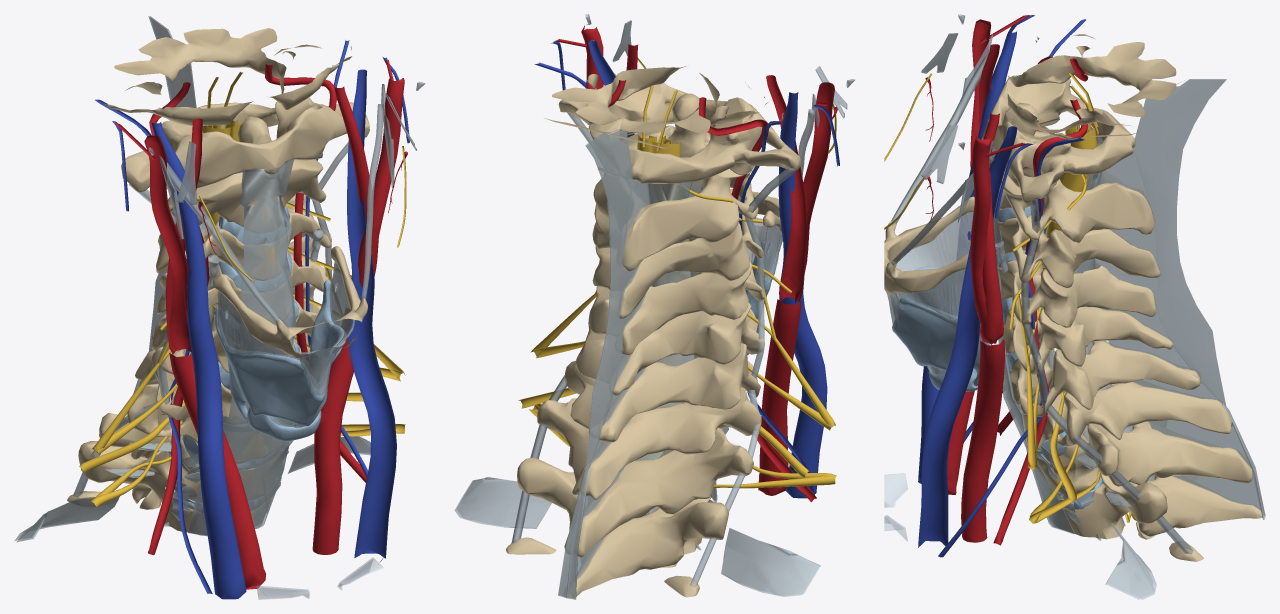
File: joint-neck.bf470dd0.glb
3 views of the same model, side by side, from view 1: azimuth 30°, elevation 25°; view 2: azimuth 150°, elevation 25°; view 3: azimuth 270°, elevation 25° (orthographic). The views are drawn at different scales.
Parts seen in each view (by area): view 1: Ligament_AnteriorLongitudinalLigament_Right, Vessel_InternalJugularVein_Right, Vessel_InternalJugularVein_Left, Bone_AtlasC1_Right, Bone_OccipitalBone_Right, Cartilage_ThyroidCartilage_Right, Vessel_CommonCarotidArtery_Left, Bone_AxisC2_Right, Vessel_CommonCarotidArtery_Right, Vessel_ExternalCarotidArtery_Right, object 78, Bone_HyoidBone_Right (+31 smaller); view 2: Bone_VertebraT1_Right, Bone_VertebraT2_Right, Bone_AtlasC1_Right, Bone_AxisC2_Right, Bone_VertebraC7_Right, Bone_VertebraC6_Right, Ligament_NuchalLigament_Right, Bone_VertebraC5_Right, Bone_VertebraC4_Right, Bone_VertebraC3_Right, Vessel_InternalJugularVein_Right, Bone_OccipitalBone_Right (+20 smaller); view 3: Ligament_NuchalLigament_Right, Bone_VertebraT1_Right, Bone_AtlasC1_Right, Vessel_InternalJugularVein_Left, Ligament_InterspinousLigaments_Right, Bone_VertebraT2_Right, Bone_VertebraC7_Right, Bone_AxisC2_Right, Bone_OccipitalBone_Right, Bone_VertebraC6_Right, Bone_VertebraC4_Right, Bone_VertebraC3_Right (+28 smaller).
Boxes of the visible parts, x1,y1,x2,y2 form: Ligament_AnteriorLongitudinalLigament_Right: (188, 157, 296, 535); Vessel_InternalJugularVein_Right: (151, 122, 246, 599); Vessel_InternalJugularVein_Left: (347, 69, 396, 562); Bone_AtlasC1_Right: (121, 97, 369, 192); Bone_OccipitalBone_Right: (103, 28, 351, 125); Cartilage_ThyroidCartilage_Right: (215, 280, 346, 426); Vessel_CommonCarotidArtery_Left: (312, 338, 353, 554); Bone_AxisC2_Right: (168, 116, 326, 226); Vessel_CommonCarotidArtery_Right: (169, 353, 265, 589); Vessel_ExternalCarotidArtery_Right: (144, 135, 189, 350); object 78: (79, 321, 185, 508); Bone_HyoidBone_Right: (212, 246, 367, 358); Bone_VertebraT1_Right: (537, 398, 753, 557); Bone_VertebraT2_Right: (517, 457, 728, 598); Bone_AtlasC1_Right: (558, 83, 800, 183); Bone_AxisC2_Right: (593, 93, 758, 271); Bone_VertebraC7_Right: (565, 354, 761, 499); Bone_VertebraC6_Right: (576, 322, 760, 442); Ligament_NuchalLigament_Right: (585, 129, 633, 475); Bone_VertebraC5_Right: (588, 286, 764, 395); Bone_VertebraC4_Right: (592, 246, 764, 355); Bone_VertebraC3_Right: (592, 204, 763, 318); Vessel_InternalJugularVein_Right: (778, 92, 827, 498); Bone_OccipitalBone_Right: (544, 66, 783, 148); Ligament_NuchalLigament_Right: (1133, 79, 1226, 407); Bone_VertebraT1_Right: (1037, 421, 1252, 498); Bone_AtlasC1_Right: (982, 75, 1135, 203); Vessel_InternalJugularVein_Left: (918, 126, 1017, 547); Ligament_InterspinousLigaments_Right: (1095, 143, 1265, 515); Bone_VertebraT2_Right: (1043, 473, 1264, 539); Bone_VertebraC7_Right: (1023, 382, 1232, 451); Bone_AxisC2_Right: (1000, 102, 1155, 243); Bone_OccipitalBone_Right: (1007, 34, 1184, 139); Bone_VertebraC6_Right: (1009, 340, 1200, 416); Bone_VertebraC4_Right: (997, 233, 1156, 327); Bone_VertebraC3_Right: (993, 215, 1160, 287).
Size of the model in its own units: 0.1255 by 0.1512 by 0.1199.
